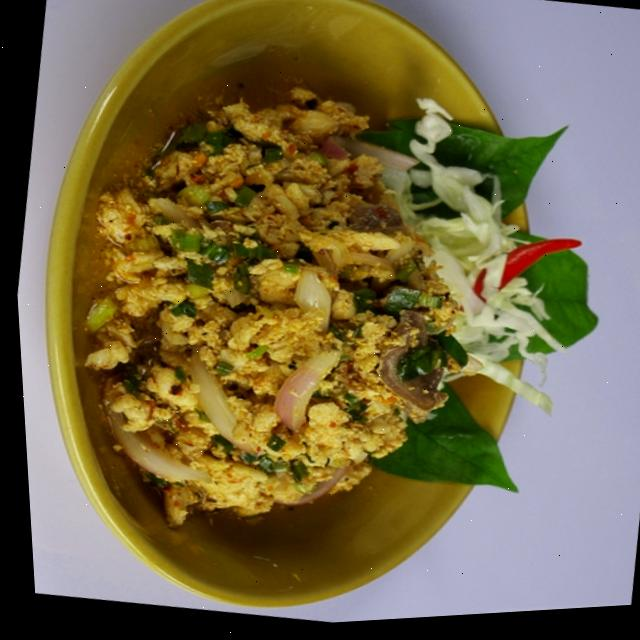鸡肉料理 含炸鸡: (14, 0, 640, 639)
